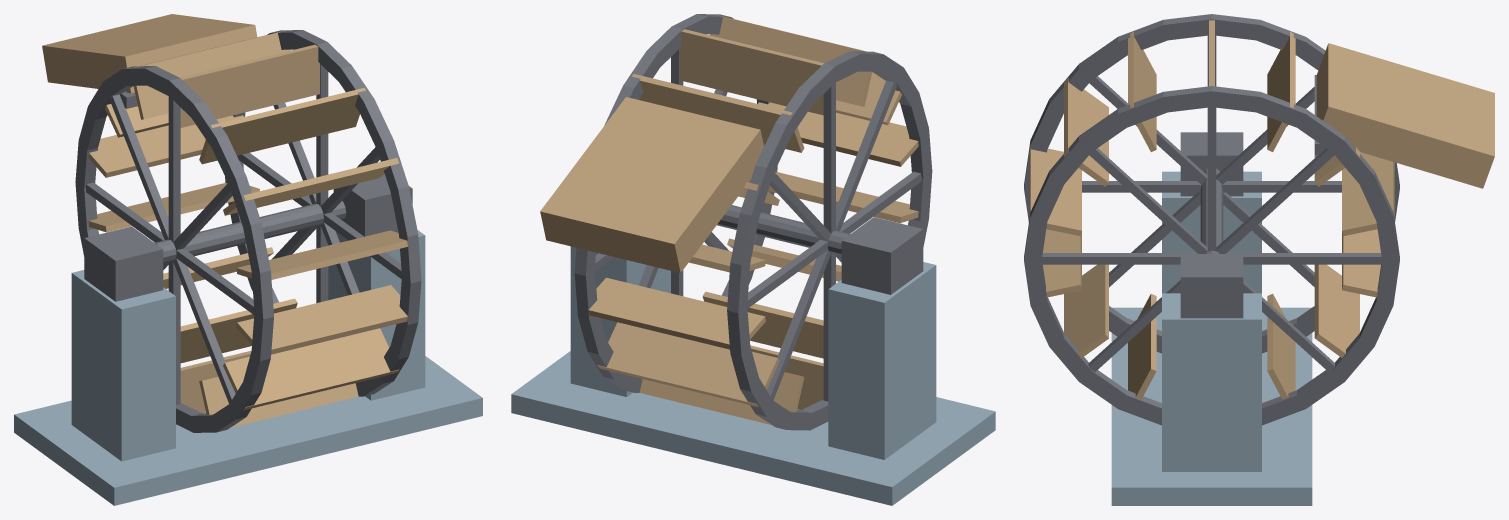
File: animated-mechanisms-kit-water-wheel-b9771c5e__24623.glb
3 renders of one model, left to right at view 1: azimuth 30°, elevation 25°; view 2: azimuth 150°, elevation 25°; view 3: azimuth 270°, elevation 25°, orthographic. The views are drawn at different scales.
Visible parts, largest first — view 1: water-wheel, wheel/timber, wheel/iron; view 2: water-wheel, wheel/timber, wheel/iron; view 3: water-wheel, wheel/iron, wheel/timber.
Boxes of the visible parts, x1,y1,x2,y2 form: water-wheel: (14, 14, 482, 505); wheel/timber: (88, 30, 407, 427); wheel/iron: (75, 30, 421, 432); water-wheel: (511, 97, 995, 505); wheel/timber: (588, 14, 918, 424); wheel/iron: (574, 14, 932, 430); water-wheel: (1111, 43, 1494, 505); wheel/iron: (1024, 14, 1399, 425); wheel/timber: (1029, 20, 1394, 399).
Bounding box in the file's own units: 3.4 × 3.2 × 3.76.
